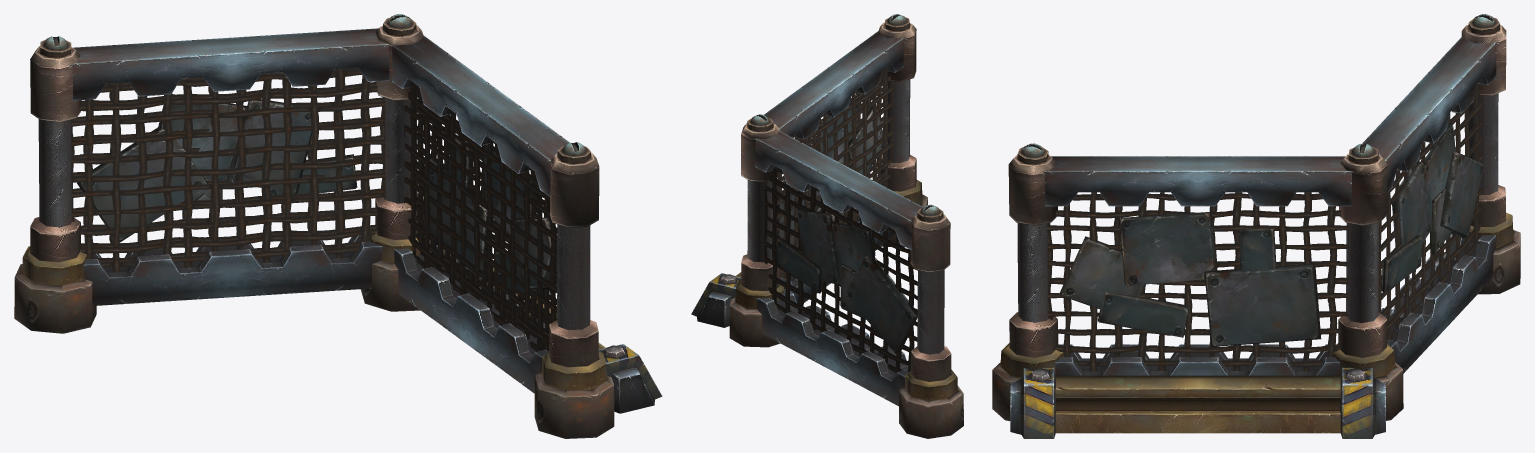
The picture shows the model from 3 angles, left to right: view 1: azimuth 30°, elevation 25°; view 2: azimuth 150°, elevation 25°; view 3: azimuth 270°, elevation 25°; orthographic projection. The views are drawn at different scales.
Size of the model in its own units: 8.6 by 5.76 by 10.46.
Materials: 4 (4 with a texture image).
